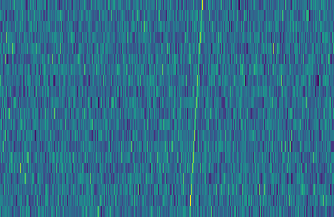signal: (185, 0, 207, 217)
